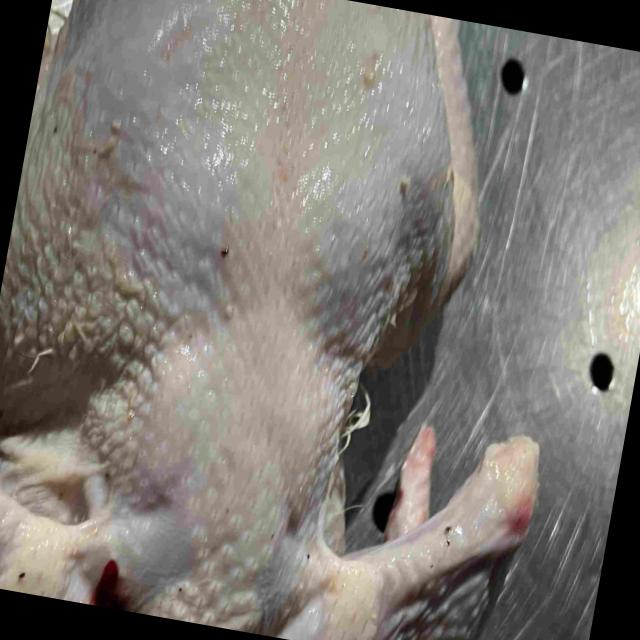back: (56, 0, 388, 565)
leg: (339, 10, 484, 362), (0, 48, 53, 395)
wing: (268, 438, 545, 640), (0, 496, 110, 607)
